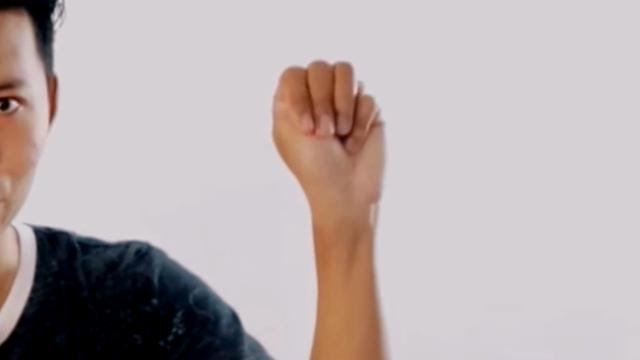M: (272, 44, 401, 214)
